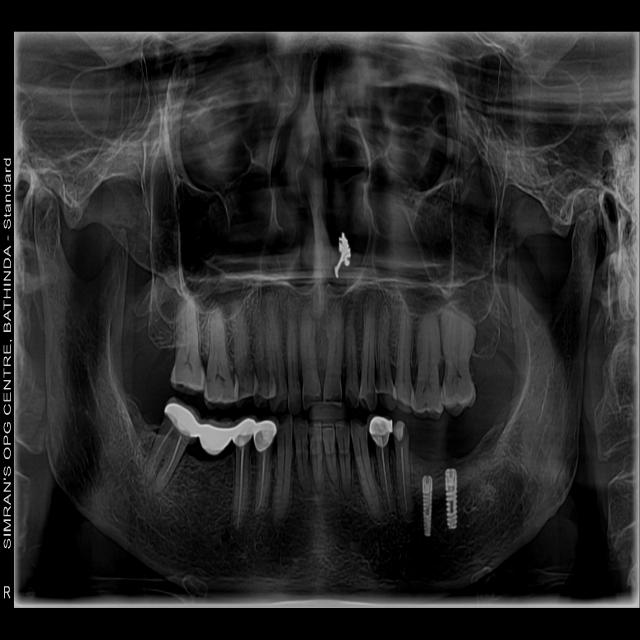Crown: (367, 414, 392, 448)
Filling: (392, 421, 405, 442)
Implant: (445, 469, 458, 530), (422, 476, 432, 536)
